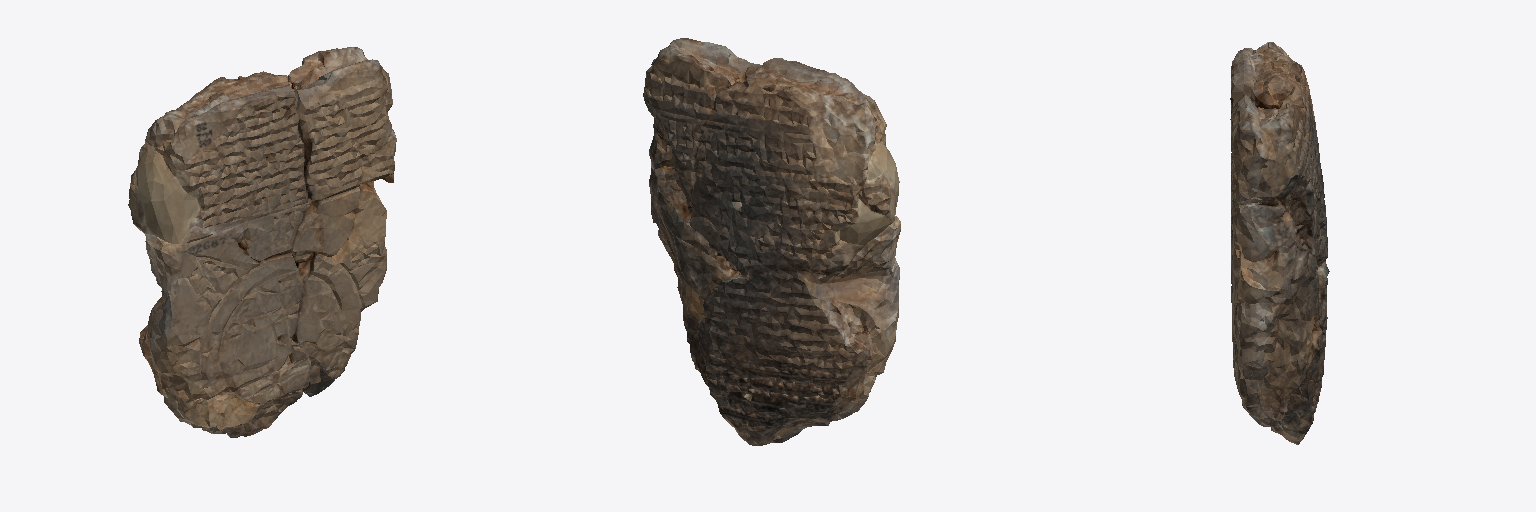
3 renders of one model, left to right at view 1: azimuth 30°, elevation 25°; view 2: azimuth 150°, elevation 25°; view 3: azimuth 270°, elevation 25°, orthographic.
Bounding box in the file's own units: 85.02 × 121 × 29.34.
Materials: 1 (1 with a texture image).